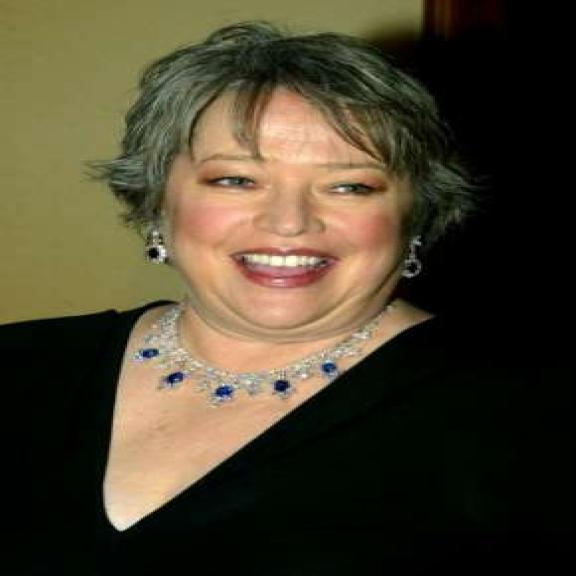face: (152, 86, 421, 346)
